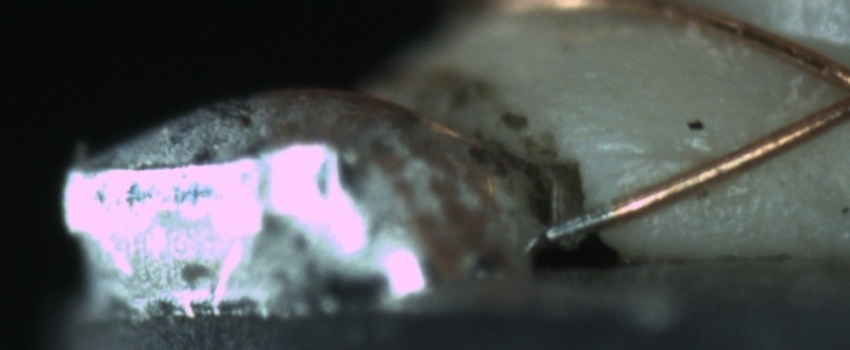CL: (810, 50, 850, 130)
DL: (598, 125, 730, 188)
TS: (544, 208, 611, 241)
